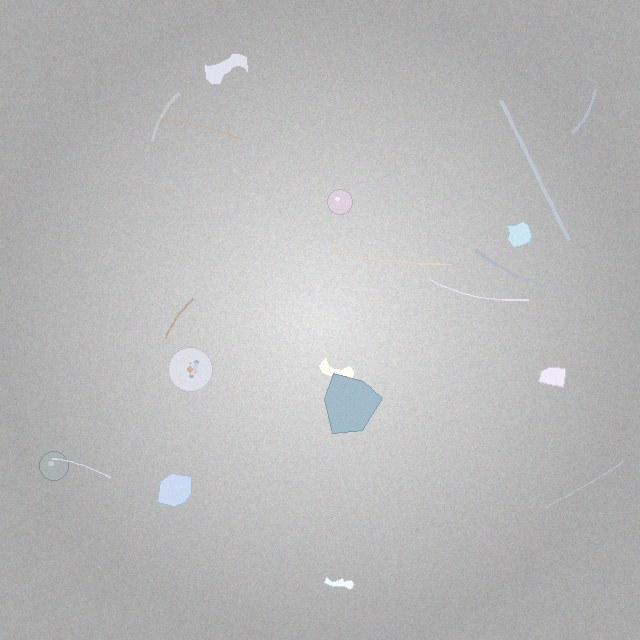fiber: (496, 95, 573, 244), (473, 247, 576, 295), (543, 460, 625, 510), (427, 276, 531, 303), (331, 247, 453, 267), (159, 117, 244, 141), (149, 90, 182, 145), (569, 86, 599, 136), (50, 456, 112, 479), (163, 297, 195, 341)
film: (204, 53, 249, 84), (319, 355, 354, 391), (325, 576, 354, 589)
foam: (168, 347, 212, 391)
fragment: (325, 373, 383, 433), (157, 474, 192, 507), (508, 221, 531, 248), (539, 367, 566, 388)
pellet: (39, 452, 69, 481), (328, 189, 353, 214)
